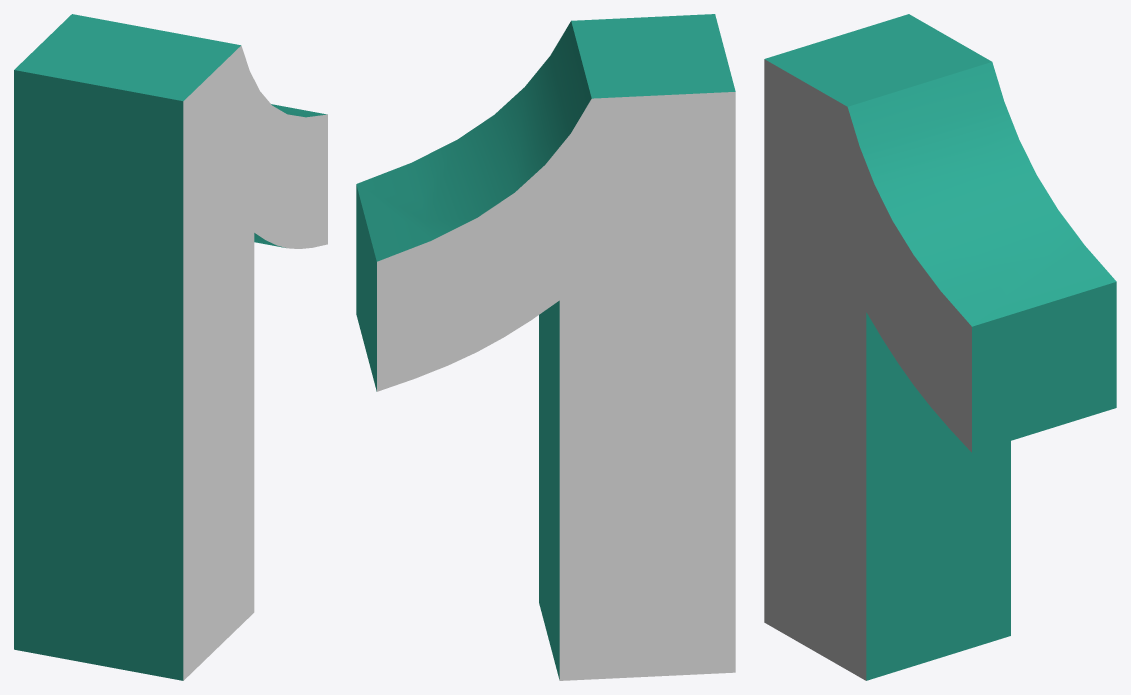
File: textxxx1.gltf
The picture shows the model from 3 angles, left to right: view 1: azimuth 30°, elevation 25°; view 2: azimuth 150°, elevation 25°; view 3: azimuth 270°, elevation 25°; orthographic projection. The views are drawn at different scales.
Visible parts, largest first — view 1: polySurface12; view 2: polySurface12; view 3: polySurface12.
Boxes of the visible parts, <box> form: polySurface12: <box>14,14,327,680</box>; polySurface12: <box>356,14,735,680</box>; polySurface12: <box>764,14,1116,680</box>.
Bounding box in the file's own units: 0.048 × 0.0768 × 0.0435.
1 material, 1 textured.
